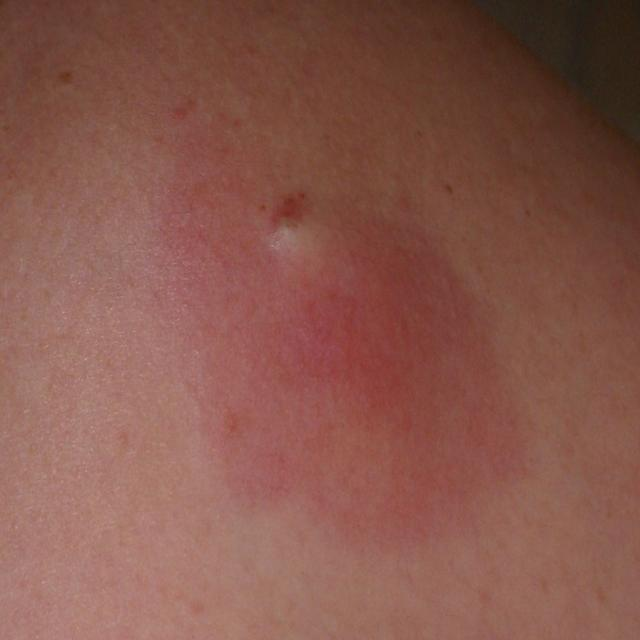kene: (149, 94, 533, 548)
